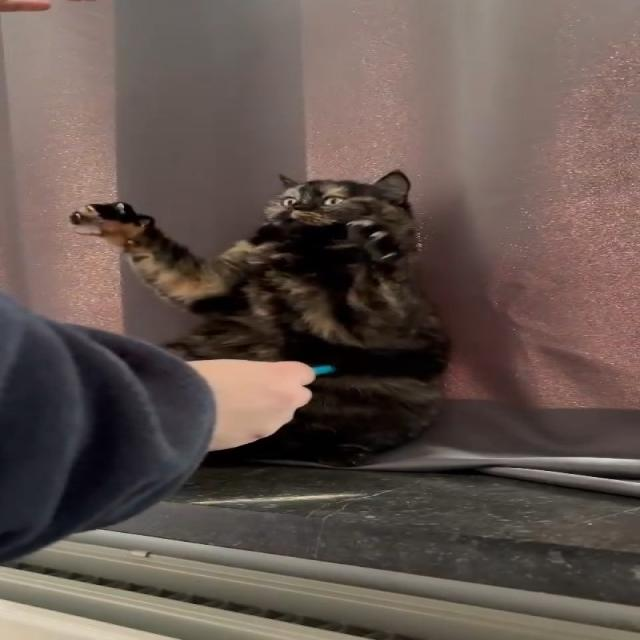authorized: (68, 168, 453, 468)
